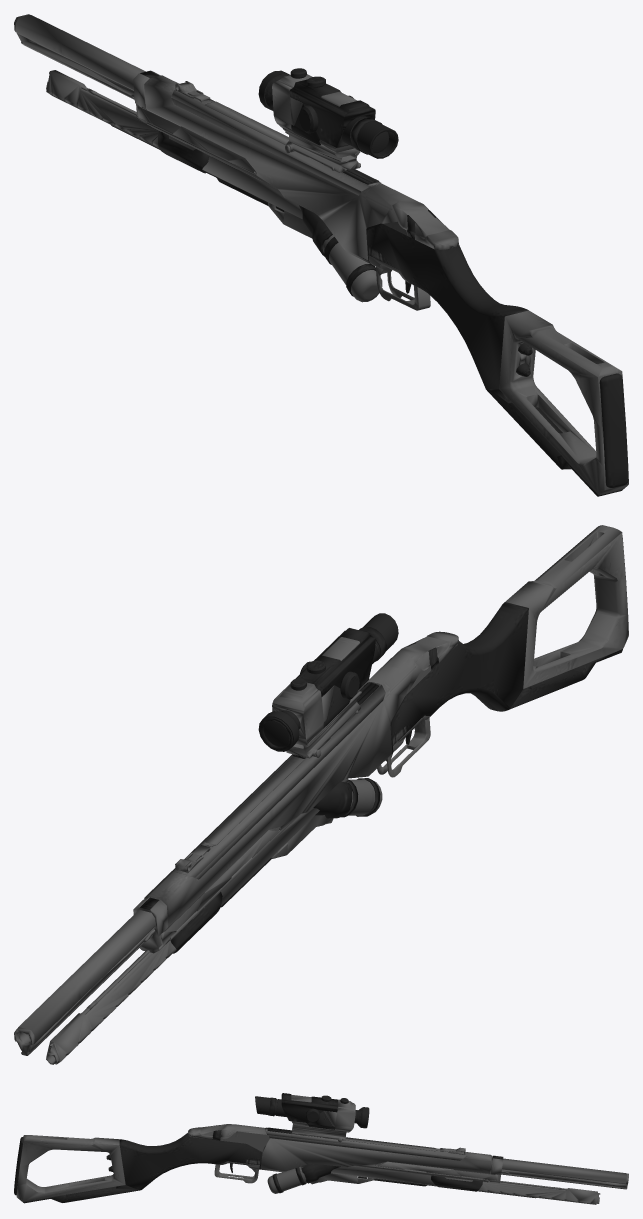
The model's file is sniper.glb.
3 renders of one model, top to bottom at view 1: azimuth 30°, elevation 25°; view 2: azimuth 150°, elevation 25°; view 3: azimuth 270°, elevation 25°, orthographic. The views are drawn at different scales.
Visible parts, largest first — view 1: Object_4; view 2: Object_4; view 3: Object_4.
Boxes of the visible parts, left/top/right/bottom form: Object_4: left=14, top=14, right=628, bottom=496; Object_4: left=14, top=525, right=628, bottom=1064; Object_4: left=14, top=1093, right=628, bottom=1204.
Size of the model in its own units: 0.0691 by 0.2834 by 1.45.
Materials: 1 (1 with a texture image).
